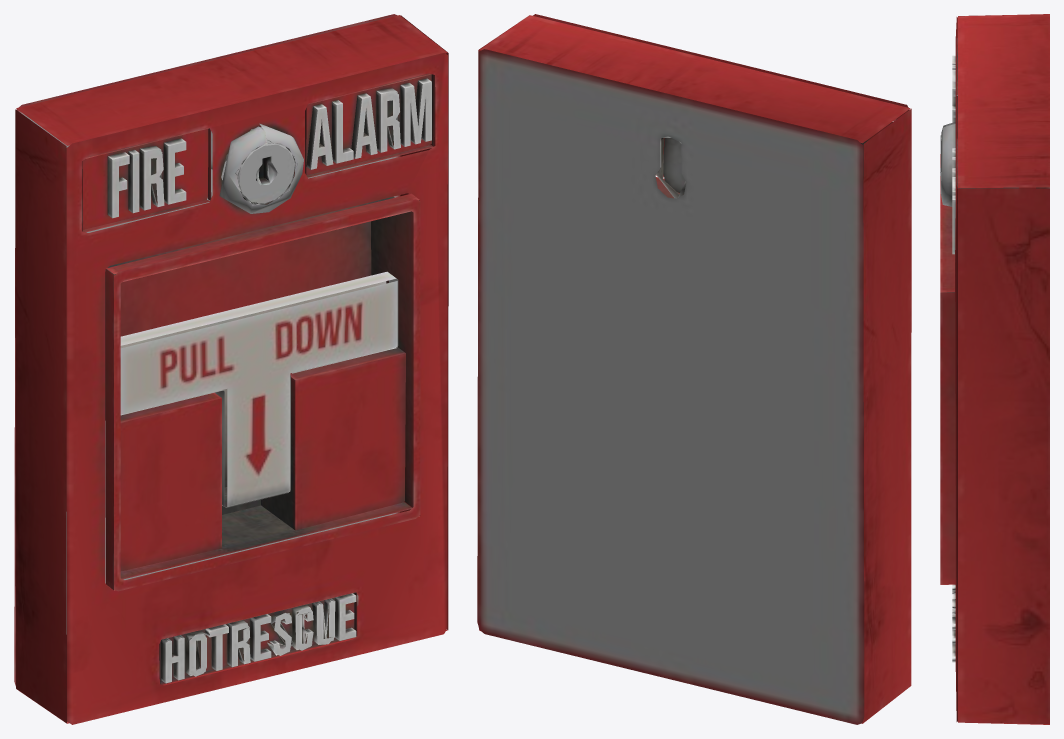
The model's file is fire_alarm.gltf.
3 renders of one model, left to right at view 1: azimuth 30°, elevation 25°; view 2: azimuth 150°, elevation 25°; view 3: azimuth 270°, elevation 25°, orthographic. The views are drawn at different scales.
Parts seen in each view (by area): view 1: fire_alarm; view 2: fire_alarm; view 3: fire_alarm.
Boxes of the visible parts, x1,y1,x2,y2 form: fire_alarm: (14, 14, 448, 724); fire_alarm: (477, 14, 911, 724); fire_alarm: (940, 14, 1049, 724).
Bounding box in the file's own units: 0.0994 × 0.1436 × 0.0264.
1 material, 1 textured.
